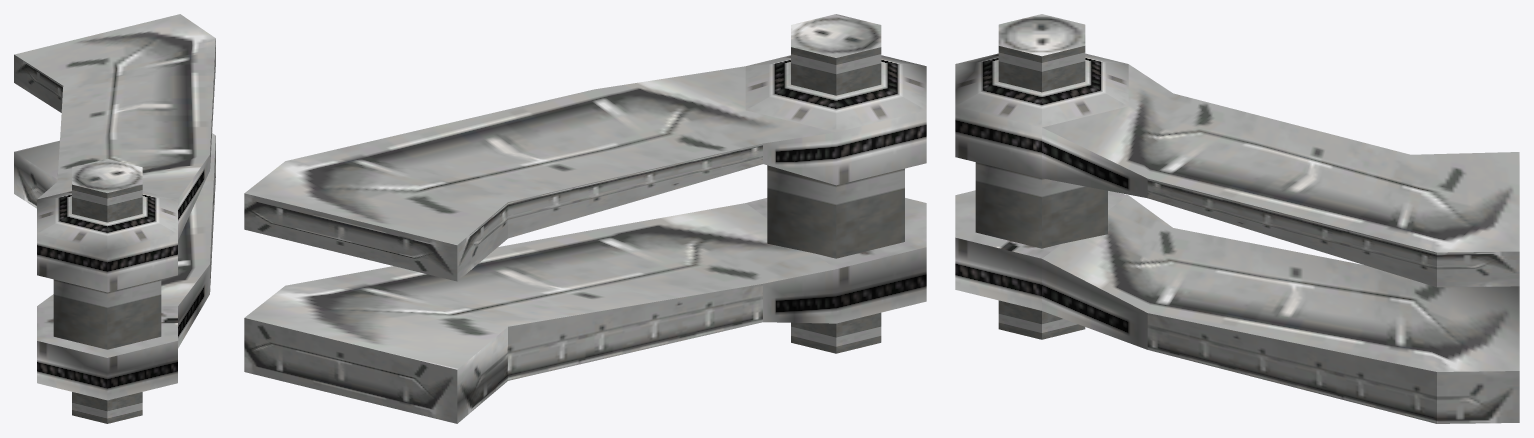
File: PWArmR3.obj
3 renders of one model, left to right at view 1: azimuth 30°, elevation 25°; view 2: azimuth 150°, elevation 25°; view 3: azimuth 270°, elevation 25°, orthographic. The views are drawn at different scales.
Visible parts, largest first — view 1: R_30; view 2: R_30; view 3: R_30.
Part boxes in pixels (x1=…): R_30: x1=14, y1=14, x2=215, y2=423; R_30: x1=244, y1=14, x2=926, y2=423; R_30: x1=955, y1=14, x2=1519, y2=423.
Bounding box in the file's own units: 22.58 × 14.65 × 26.45.
Materials: 1 (1 with a texture image).
